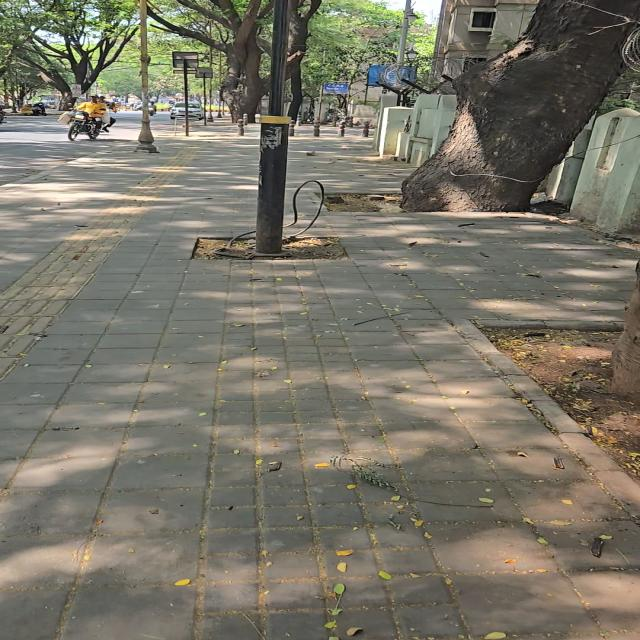obstacle: (402, 0, 639, 211), (403, 0, 639, 211), (149, 0, 273, 121), (16, 0, 137, 108), (302, 0, 402, 97), (256, 0, 290, 255), (612, 262, 639, 399), (613, 262, 639, 398), (136, 0, 159, 152), (224, 87, 263, 122), (397, 0, 411, 65), (288, 60, 303, 120), (183, 59, 189, 136), (217, 51, 222, 118), (206, 75, 213, 121), (59, 91, 75, 110), (318, 84, 324, 121), (202, 76, 206, 126), (288, 120, 295, 136), (313, 118, 319, 136), (363, 121, 369, 137), (238, 119, 244, 135), (339, 121, 345, 136), (345, 116, 353, 127), (332, 116, 338, 126), (297, 115, 302, 126), (243, 114, 247, 125)
